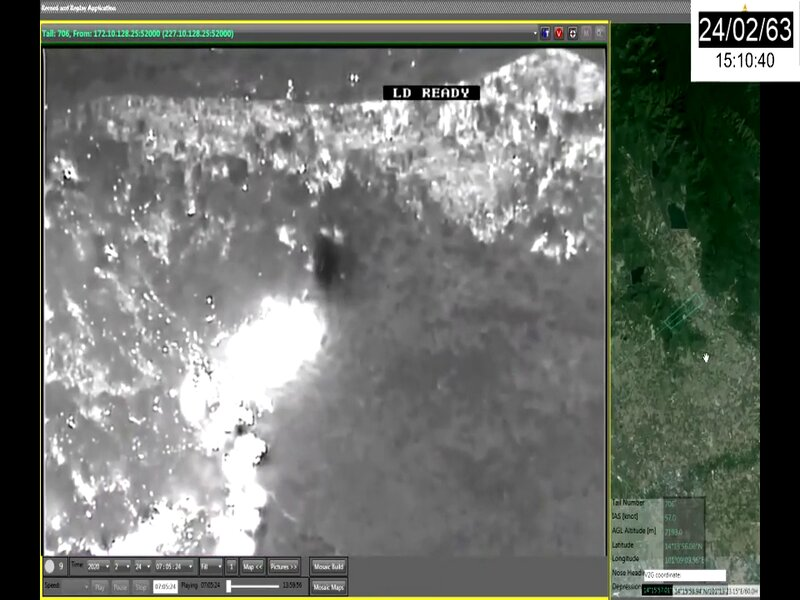Fire: (88, 294, 329, 555)
